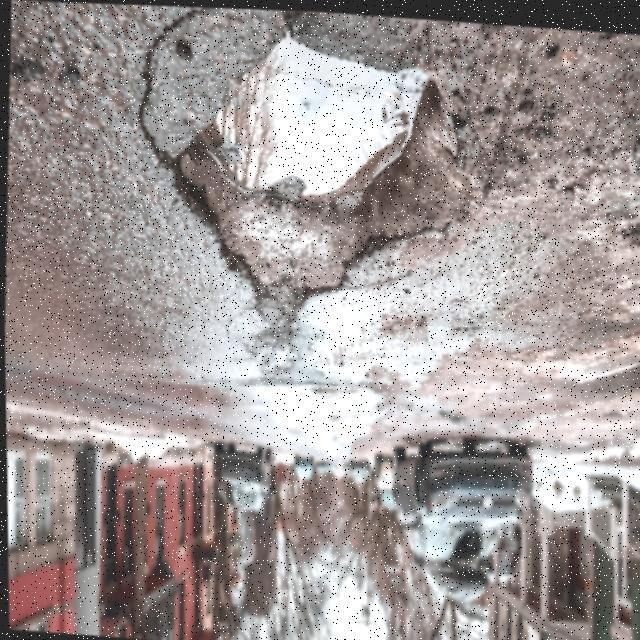pothole: (176, 9, 438, 320)
